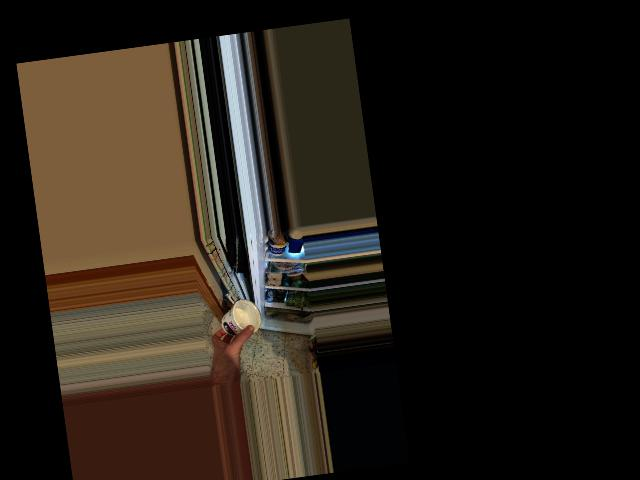cotage: (214, 296, 263, 343)
